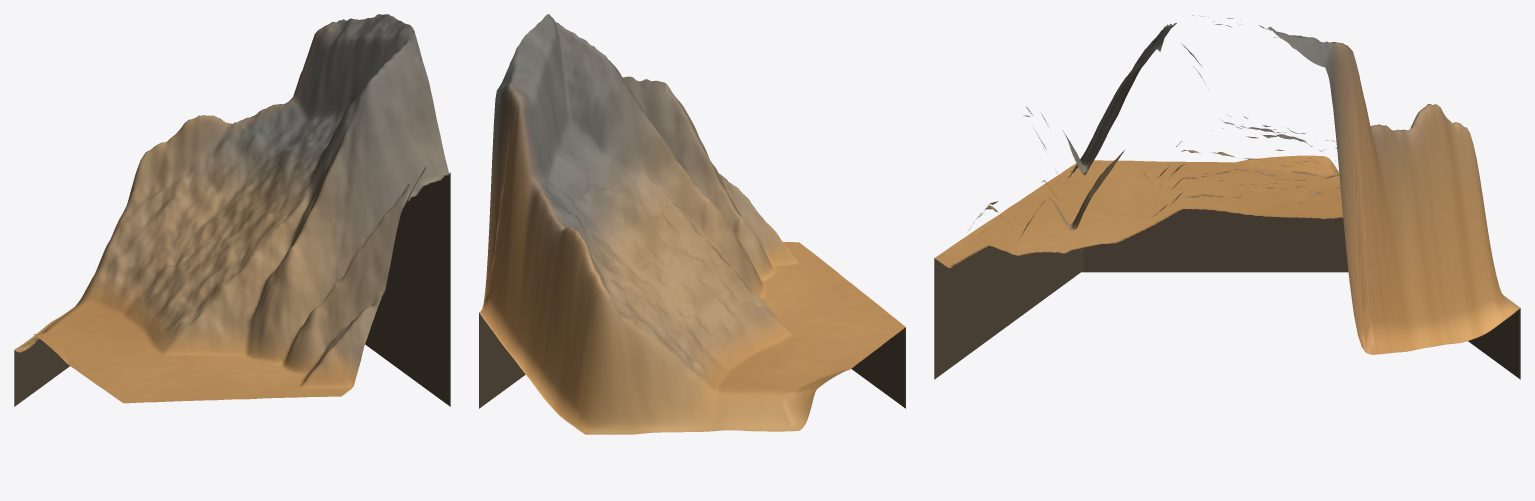
3 renders of one model, left to right at view 1: azimuth 30°, elevation 25°; view 2: azimuth 150°, elevation 25°; view 3: azimuth 270°, elevation 25°, orthographic. The views are drawn at different scales.
Visible parts, largest first — view 1: terrain, hex_side_cut; view 2: terrain, hex_side_cut; view 3: terrain, hex_side_cut.
Boxes of the visible parts, x1,y1,x2,y2 form: terrain: [14, 14, 449, 403]; hex_side_cut: [14, 172, 450, 406]; terrain: [479, 14, 905, 434]; hex_side_cut: [479, 313, 905, 408]; terrain: [934, 15, 1519, 354]; hex_side_cut: [934, 209, 1520, 379].
Bounding box in the file's own units: 4330 × 4452 × 5000.
